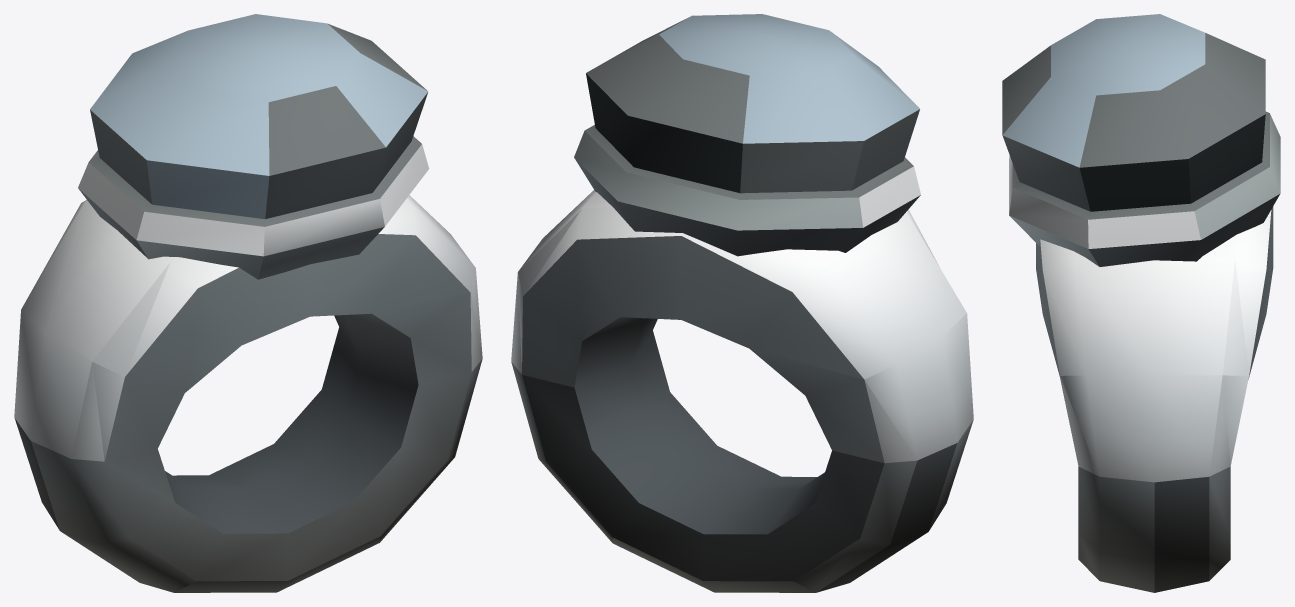
Rendered from ring_silver_onyx.glb.
3 views of the same model, side by side, from view 1: azimuth 30°, elevation 25°; view 2: azimuth 150°, elevation 25°; view 3: azimuth 270°, elevation 25° (orthographic). The views are drawn at different scales.
Parts seen in each view (by area): view 1: Item; view 2: Item; view 3: Item.
Part boxes in pixels (<box>): Item: <box>14,14,482,592</box>; Item: <box>511,14,973,592</box>; Item: <box>1002,14,1280,592</box>.
Size of the model in its own units: 0.52 by 0.62 by 0.3.
Materials: 3 (3 with a texture image).
